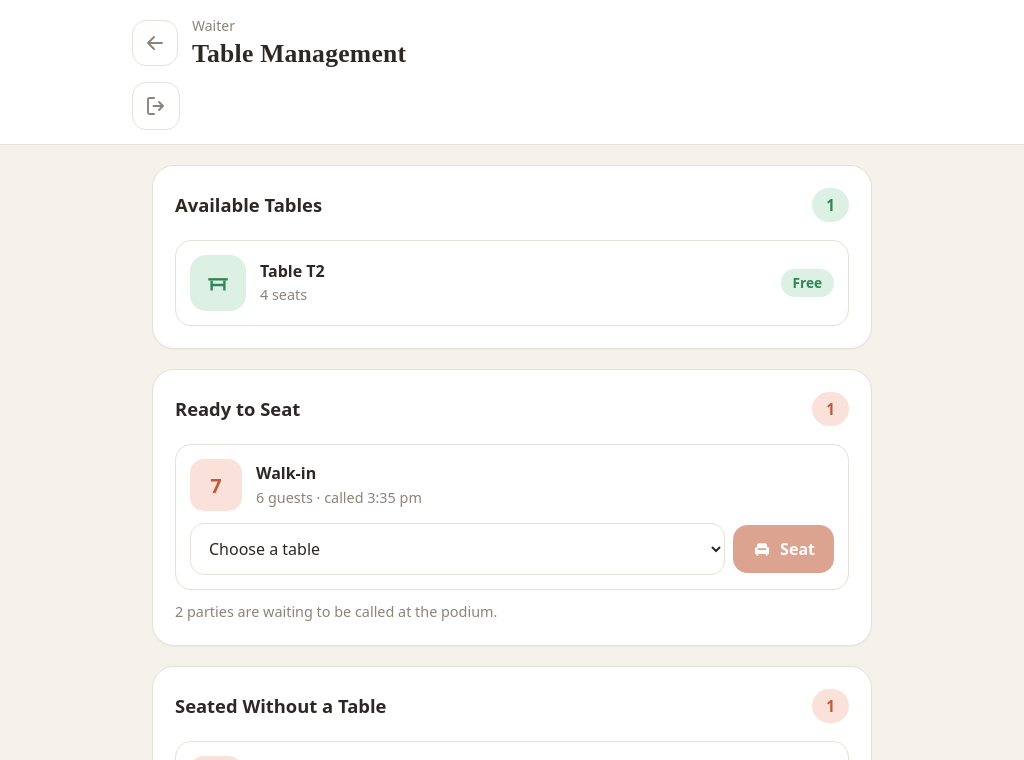
Test case: Waiter — table management › shows a refusal from the server instead of pretending the seat worked
Step 1. Select "Table T2 · 4 seats" in the dropdown named "Table for token 7" → (458, 549), box [190,523,725,575]
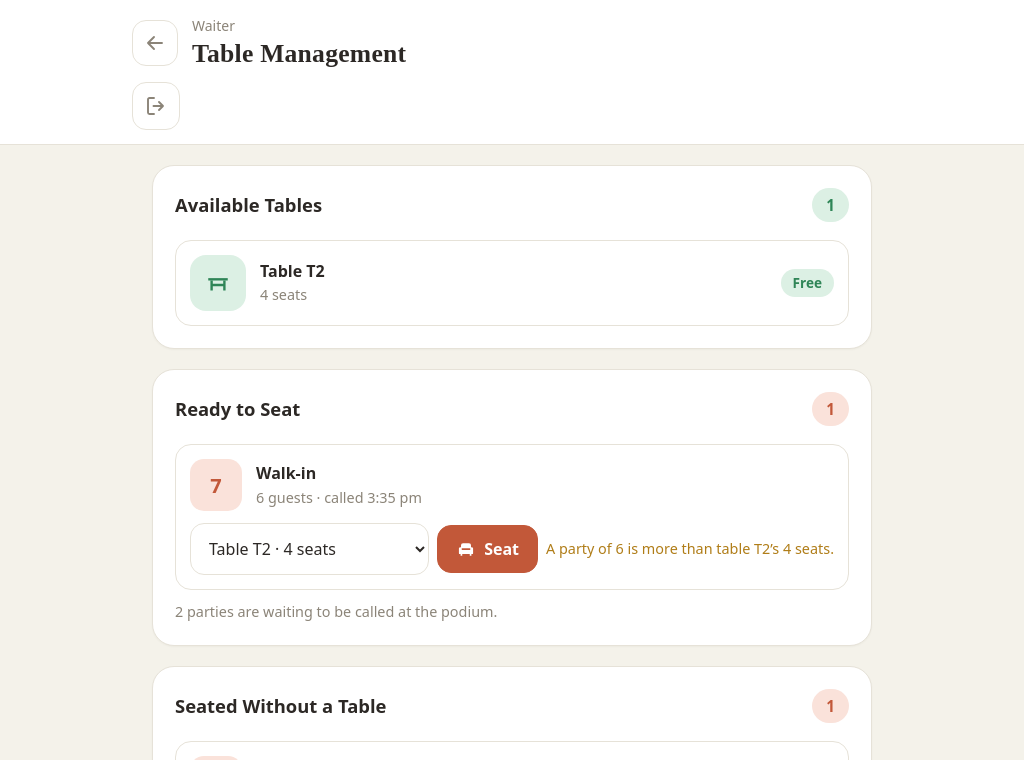
Step 2. Click the button "Seat" → (488, 549), box [437,525,538,573]
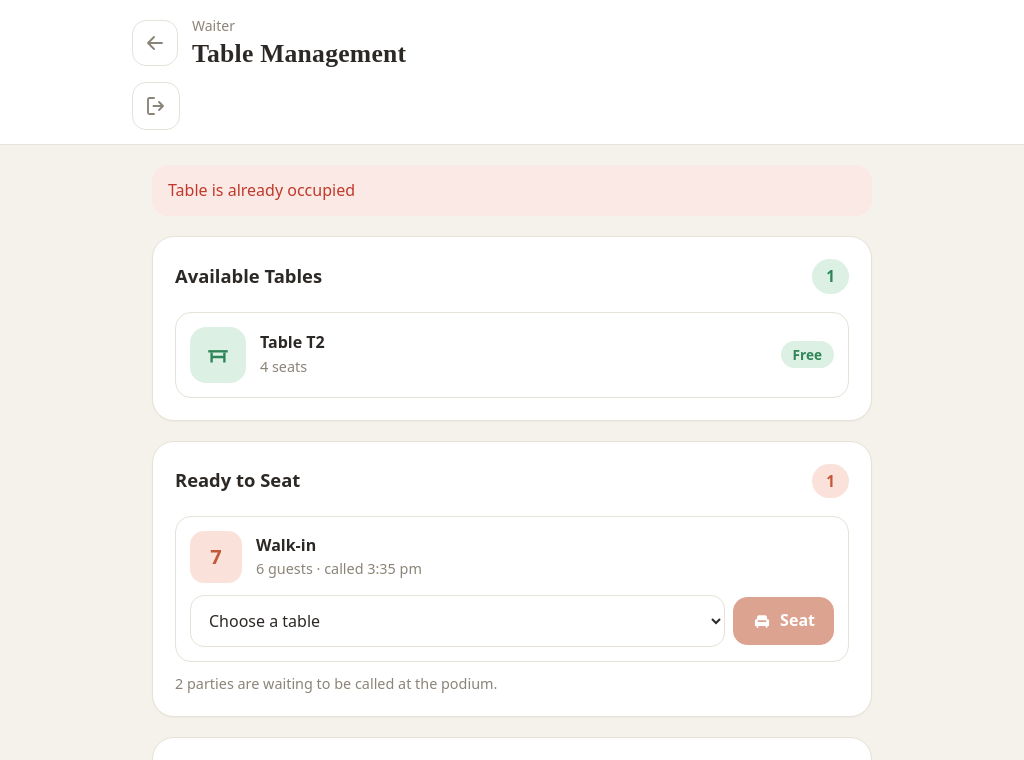
expect the message reads "Table is already occupied": met, box [168,179,355,201]
